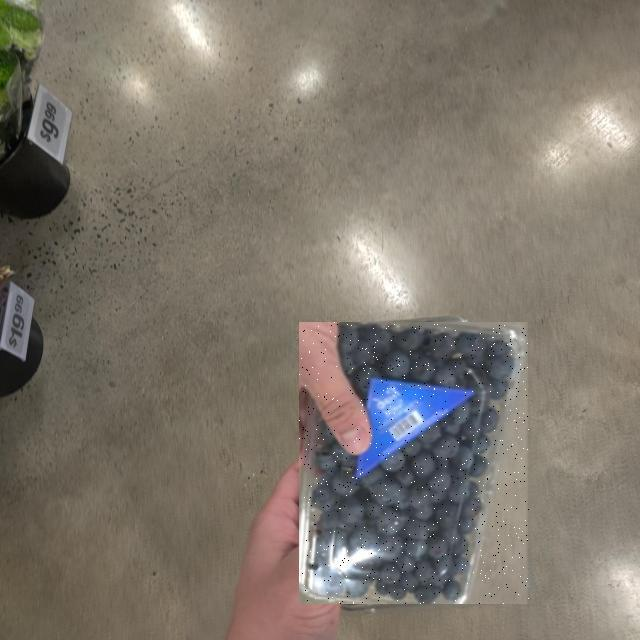Blue Berries: (300, 322, 530, 604)
